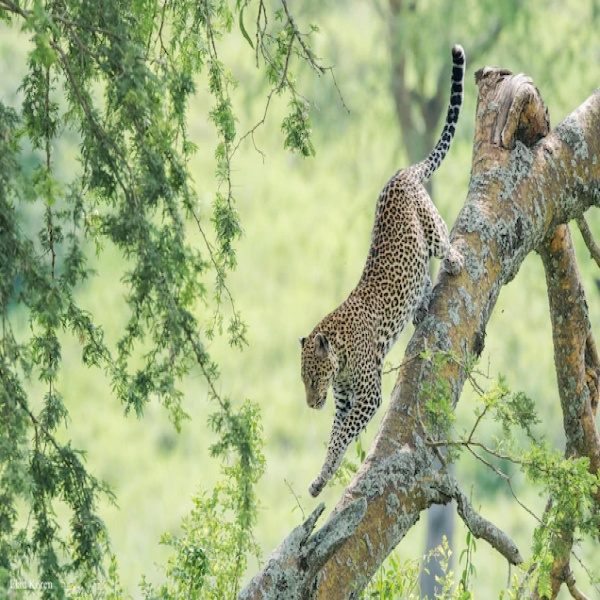Leopard: (296, 38, 470, 500)
